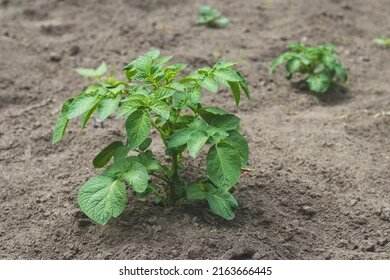potato_plant: (54, 49, 255, 223)
